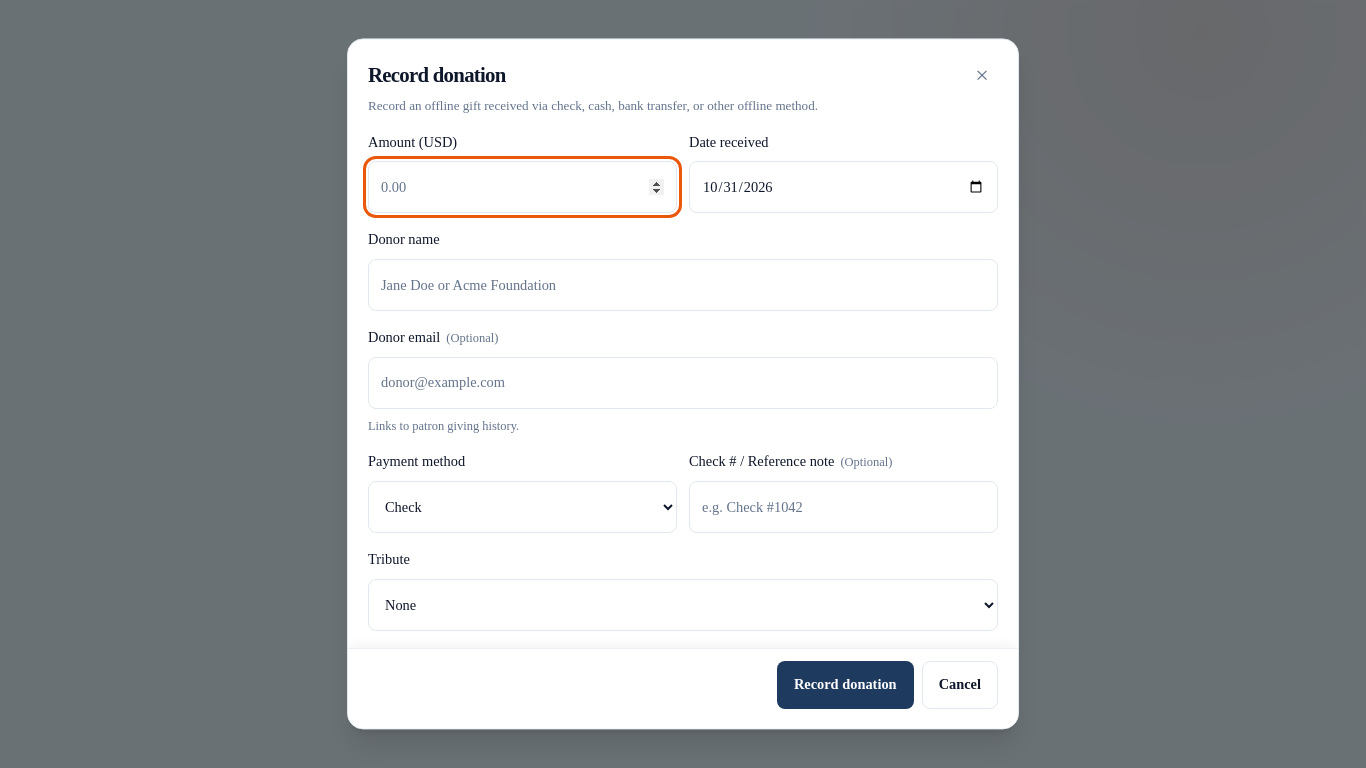
Test: ManualDonationModal interaction › associates optional field labels and donor email help accessibly
Expected: the field labelled "Check # / Reference note (Optional)" is shown, [689,481,998,533]
Select "In Honor Of" in the dropdown labelled "Tribute" at (683, 605), box [368,579,998,631]
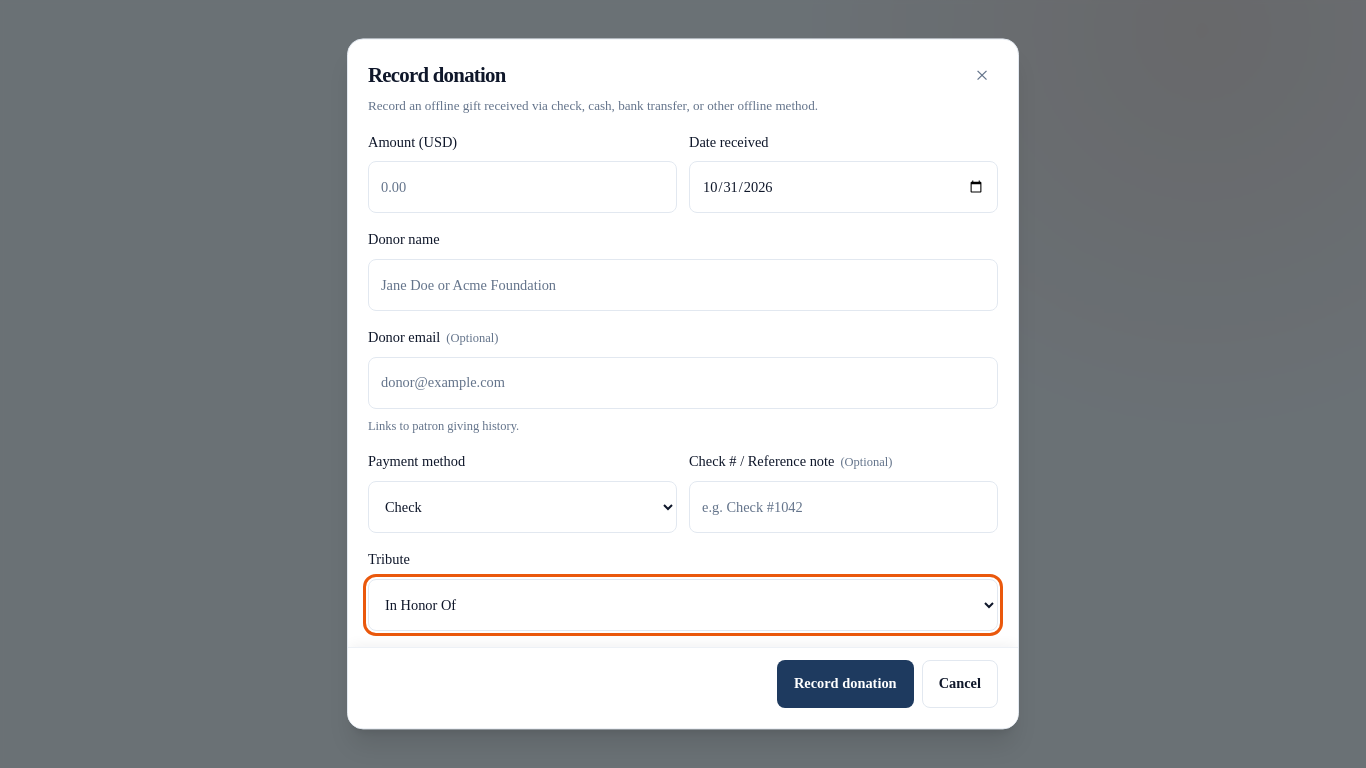
Expected: the field labelled "Honoree / Memorial name" is shown, [368,677,677,729]
Now the field labelled "Notification email (Optional)" is shown, box [689,677,998,729]
